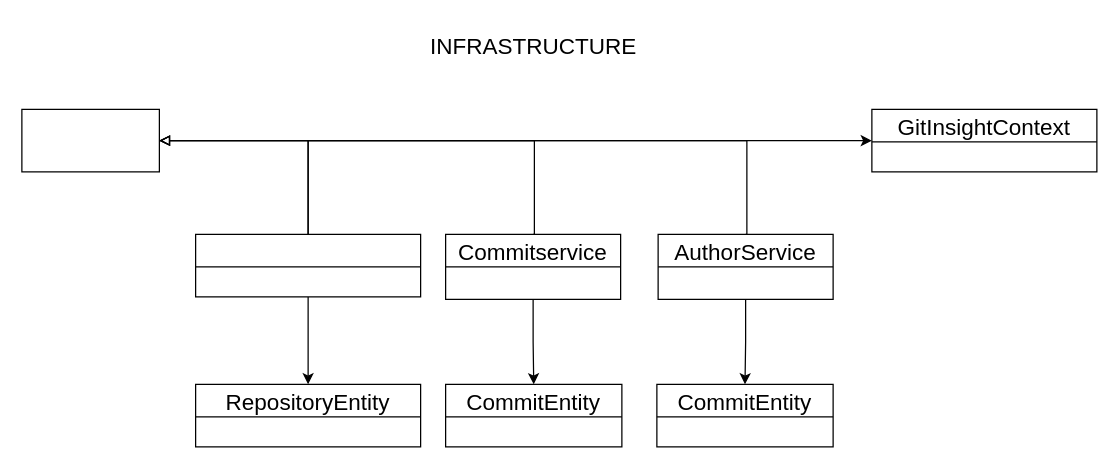
Image size: 1119x469. Some labels were removed from this diagram. The shapes that lost their labels are listed below. From the top down, each one's centre as x and y in pixels, then its label:
point 90,140: CORE
point 307,265: RespositoryService
